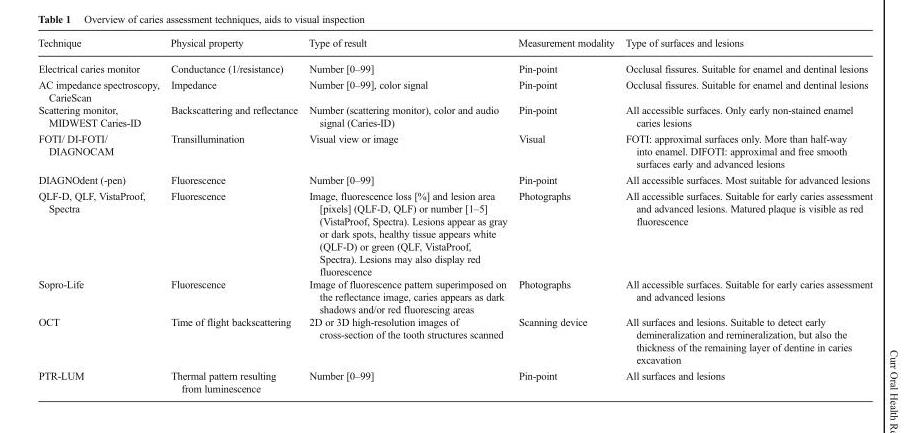table: (38, 36, 872, 393)
table column: (620, 36, 872, 393), (303, 36, 513, 393), (165, 36, 303, 393), (38, 36, 165, 393), (513, 36, 620, 393)
table column header: (38, 36, 872, 55)
table row: (38, 187, 872, 277), (38, 315, 872, 367), (38, 130, 872, 171), (38, 277, 872, 315), (38, 76, 872, 103), (38, 103, 872, 130), (38, 367, 872, 393), (38, 55, 872, 76), (38, 36, 872, 55), (38, 171, 872, 187)
